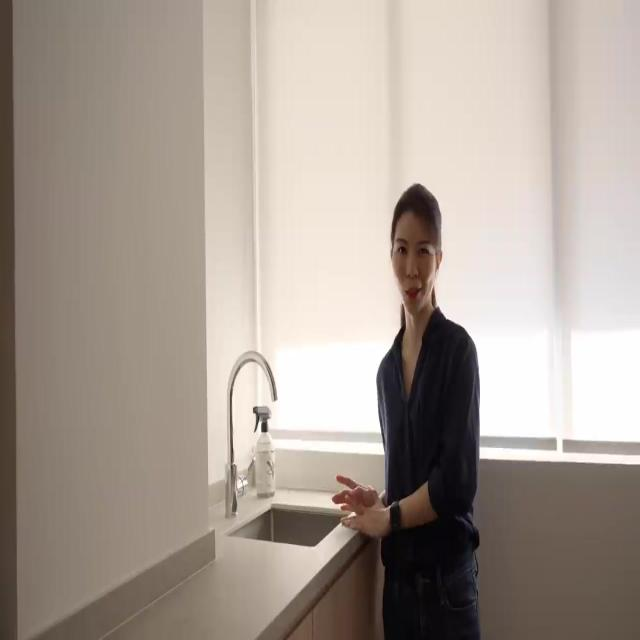person: (331, 182, 481, 639)
